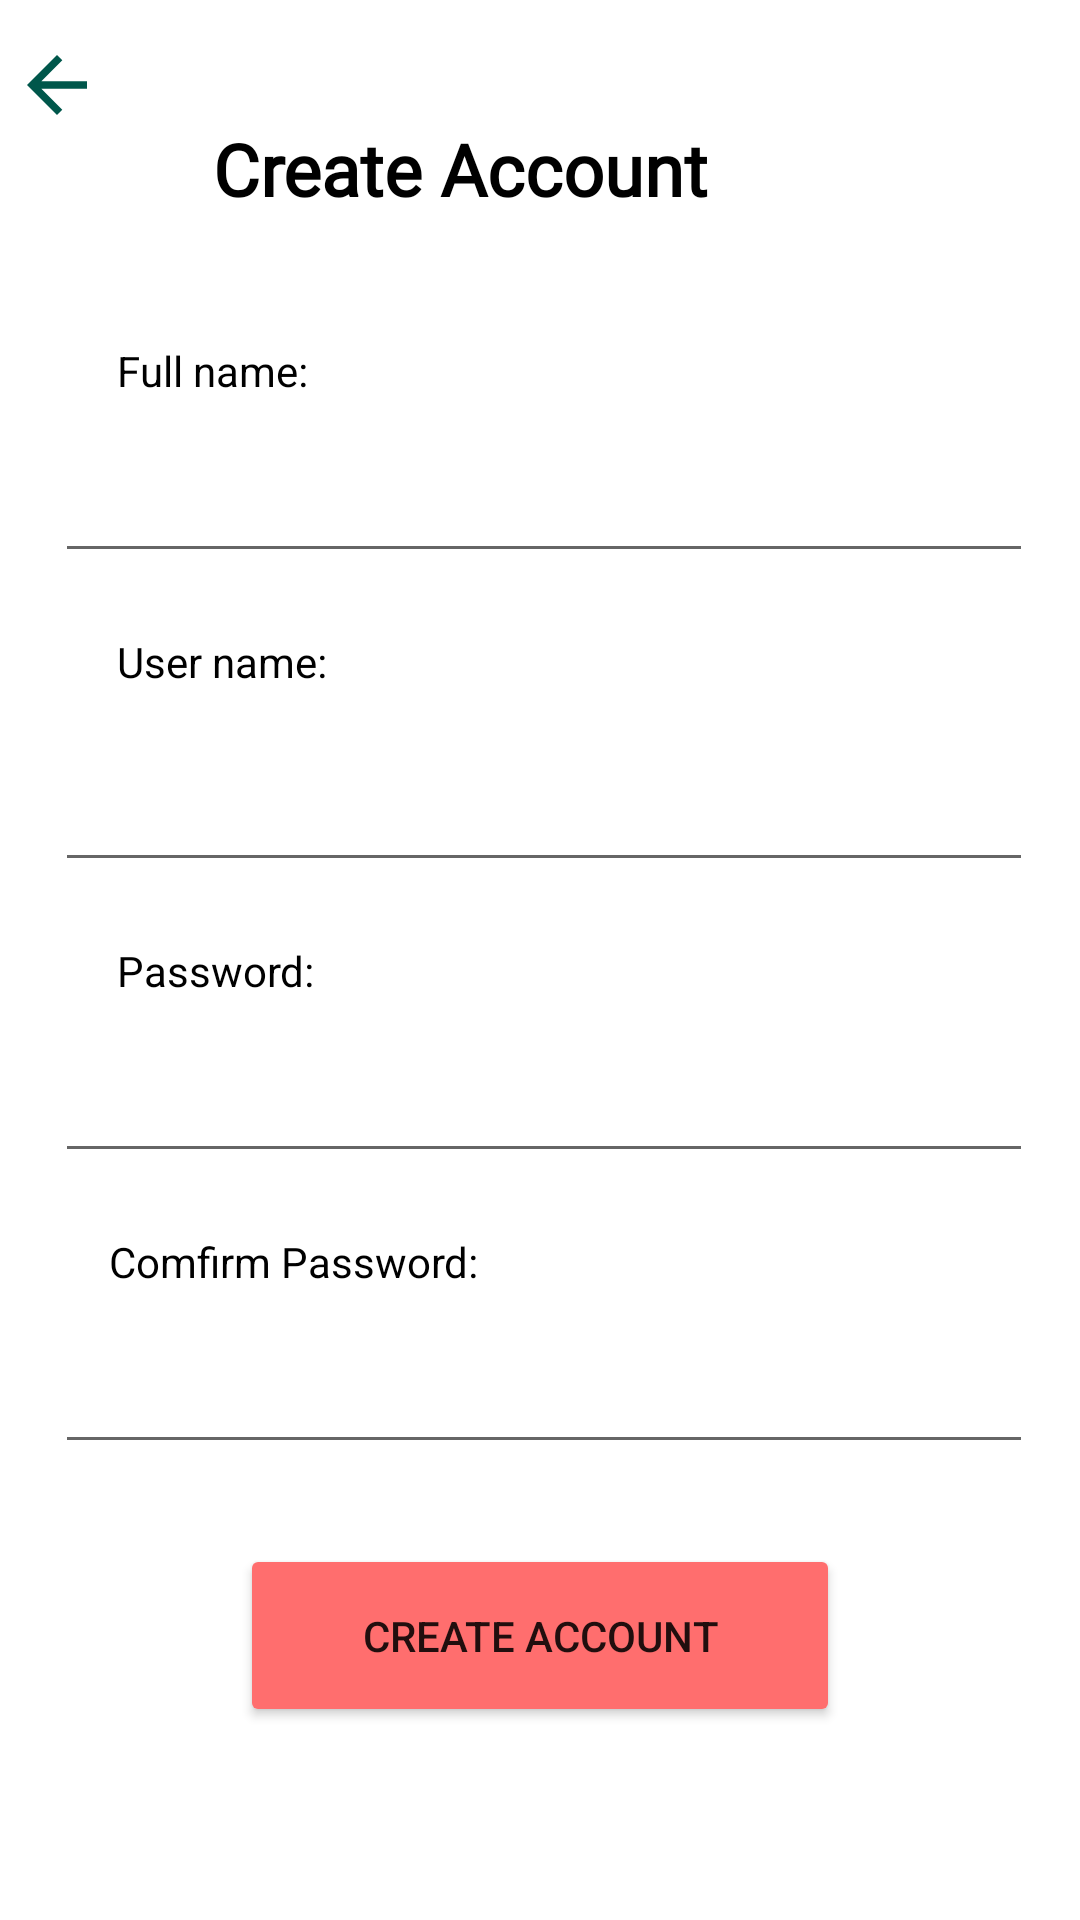

Locate icon controls on the screen. Image size 1080 × 1920, boxes as (x1, y1, x2, y2).
arrow back: (27, 55, 87, 115)
